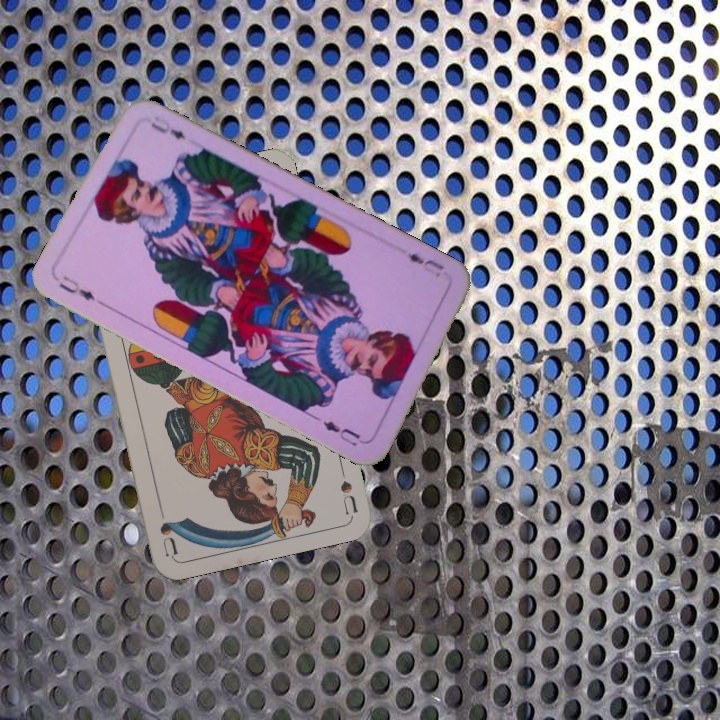EU: (55, 271, 109, 309), (403, 248, 447, 274)
SU: (335, 456, 360, 515)
